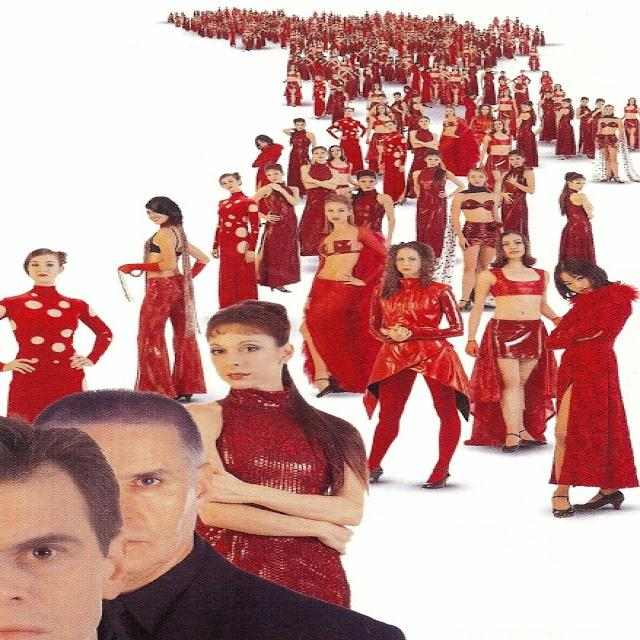body: (0, 385, 405, 639), (181, 297, 372, 610), (353, 238, 472, 489), (538, 254, 638, 517), (464, 229, 566, 454), (294, 191, 400, 399), (0, 246, 117, 431), (164, 5, 526, 64), (114, 192, 211, 407), (449, 167, 507, 314), (246, 162, 305, 293), (210, 171, 262, 309), (408, 149, 468, 268), (337, 169, 398, 251), (298, 145, 342, 258), (557, 170, 599, 268), (496, 148, 539, 241), (324, 106, 368, 176), (282, 116, 320, 196), (593, 103, 627, 185), (407, 116, 440, 199), (477, 118, 513, 194), (378, 119, 410, 204), (360, 103, 397, 176), (436, 105, 471, 177), (250, 134, 286, 191), (514, 100, 540, 170), (324, 143, 357, 197), (552, 96, 578, 160), (535, 89, 563, 145), (574, 95, 596, 161), (466, 103, 498, 145), (618, 96, 640, 151), (362, 92, 395, 127), (496, 87, 520, 135), (280, 64, 303, 108), (324, 72, 346, 116), (389, 91, 411, 134), (510, 75, 534, 114), (309, 73, 328, 121), (329, 84, 350, 127), (476, 65, 498, 106), (417, 65, 437, 109), (446, 63, 465, 108), (430, 64, 451, 104), (462, 60, 483, 99), (399, 85, 418, 127), (303, 63, 360, 77), (548, 81, 567, 122), (510, 69, 534, 101), (368, 56, 387, 93), (359, 61, 376, 101), (408, 60, 426, 97), (378, 64, 407, 86), (587, 97, 608, 127), (461, 90, 478, 126), (364, 82, 386, 109), (407, 93, 430, 117), (538, 70, 555, 101), (526, 24, 547, 48), (526, 47, 541, 72), (342, 77, 358, 100), (496, 70, 513, 85)
